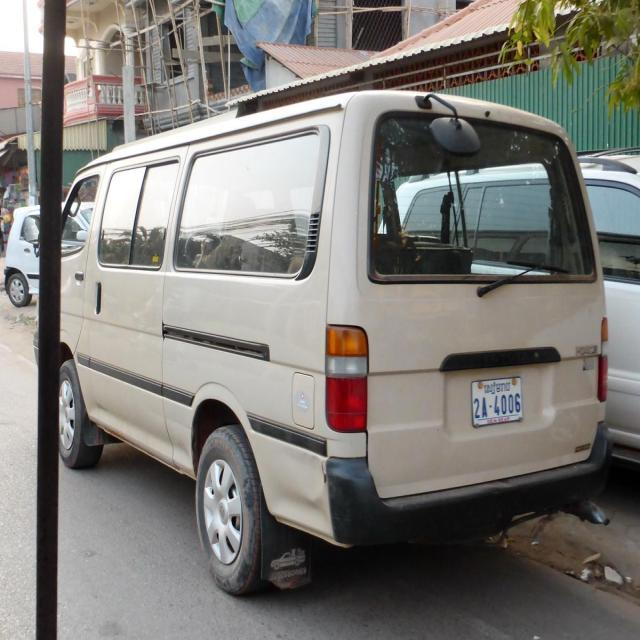Siem_Reap: (483, 379, 514, 395)
